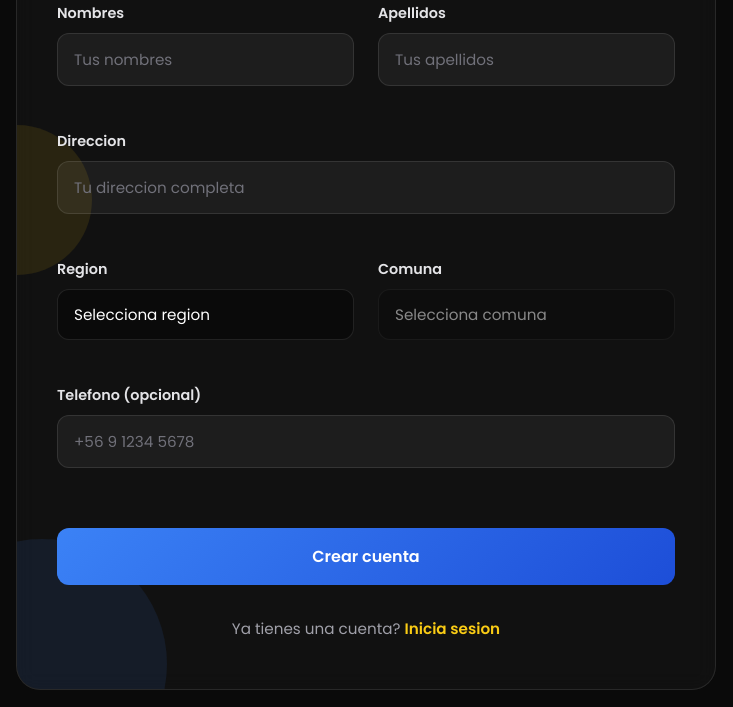
Test: Registro › Validaciones de formulario › debe mostrar error cuando el RUN está vacío
(page scrolled)
Step 1. Click the button "Crear cuenta" → x=366, y=556, box 57,528 -> 675,585
(page scrolled)
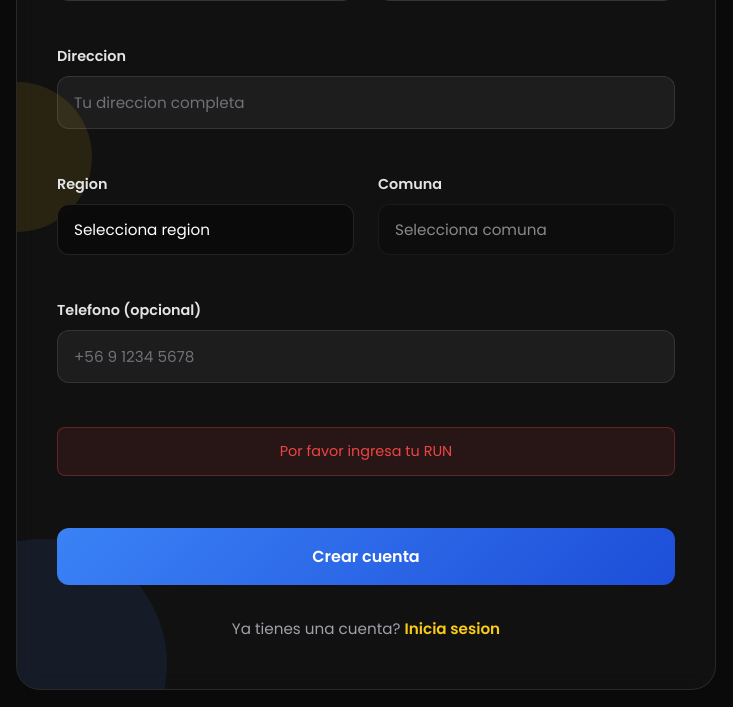
expect the text "Por favor ingresa tu RUN" is shown: met, box 57,427 -> 675,476
